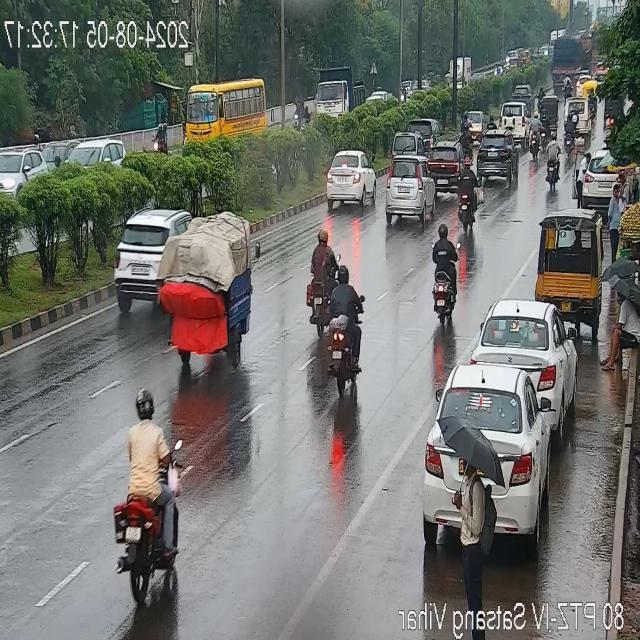2-wheelers: (120, 378, 182, 604), (330, 262, 364, 398), (426, 225, 461, 326), (306, 224, 336, 338), (456, 172, 482, 232), (548, 133, 560, 187), (530, 110, 542, 160), (562, 112, 574, 160), (152, 120, 166, 154), (541, 106, 549, 148), (294, 102, 300, 130), (488, 113, 494, 127)
auto: (155, 206, 259, 372), (532, 213, 600, 323), (391, 132, 423, 156), (540, 94, 558, 124), (584, 75, 600, 95)
bus: (180, 83, 274, 152)
car: (442, 368, 564, 550), (475, 298, 575, 411), (112, 204, 176, 310), (322, 150, 376, 209), (0, 138, 48, 195), (384, 177, 436, 225), (585, 153, 631, 207), (476, 127, 518, 183), (425, 145, 461, 187), (573, 94, 593, 142), (501, 100, 525, 136), (462, 110, 488, 140)
pedestrian: (454, 452, 482, 604), (598, 278, 640, 376), (602, 260, 638, 308), (610, 182, 624, 255), (576, 151, 588, 203), (620, 172, 628, 206)
truck: (312, 65, 368, 117), (551, 32, 582, 90)
